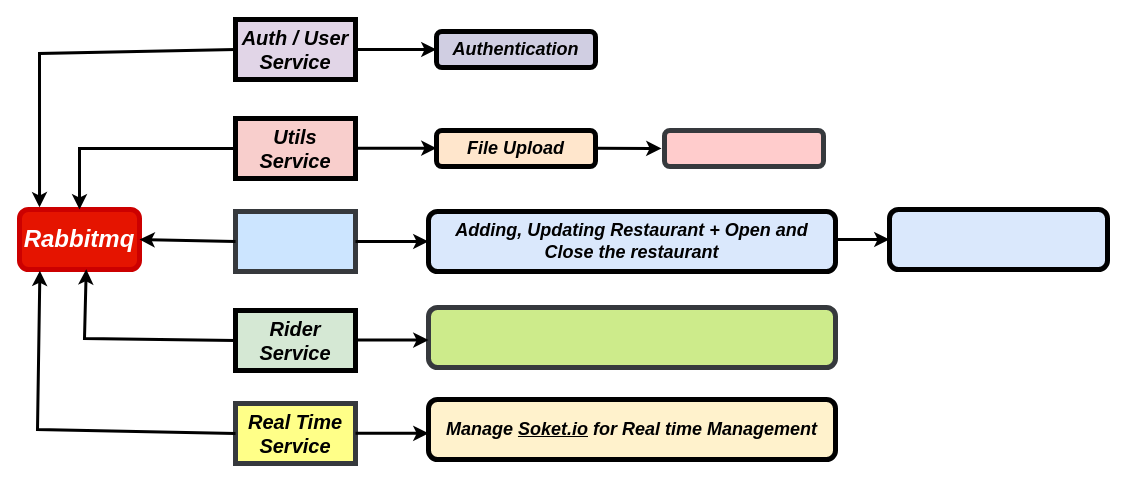
The diagram is 1127 pixels wide and 483 high, and some of its shapes have lost their labels. The centre of each missing label's shape, as x and y in pixels:
"Create and Manage his or her profile and accept the order" goes at (632,337).
"Managing Addresses Cart and Orders" goes at (998,239).
"Payment" goes at (744,148).
"Restaurant Service" goes at (295,241).
